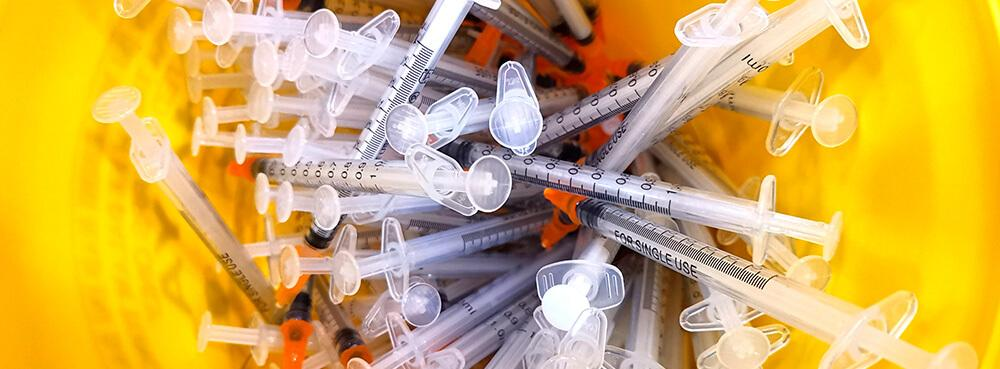Syringe: (563, 200, 976, 368), (588, 0, 867, 165), (442, 140, 841, 248), (92, 86, 274, 313), (587, 0, 766, 170), (347, 245, 570, 368), (280, 208, 549, 299), (354, 0, 472, 159), (251, 146, 510, 215), (716, 68, 857, 155), (697, 17, 828, 107), (254, 173, 440, 229), (426, 293, 539, 368), (469, 0, 584, 72), (536, 236, 623, 330), (680, 293, 789, 367), (387, 87, 495, 151), (303, 9, 400, 79), (313, 277, 372, 364), (361, 276, 442, 337), (489, 61, 542, 154), (620, 259, 663, 368), (197, 312, 283, 365), (202, 0, 305, 44), (244, 214, 302, 285), (748, 235, 828, 281), (411, 252, 535, 278), (484, 311, 539, 368), (552, 0, 593, 44), (114, 0, 149, 18)
